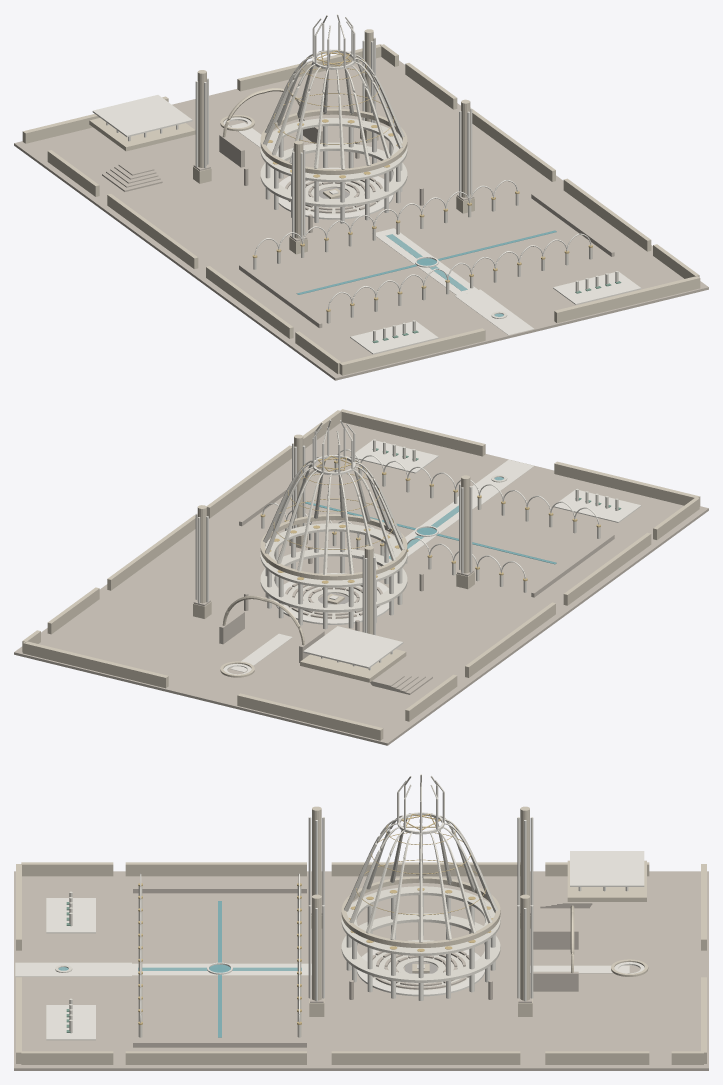
Rendered from temple_lite.glb.
3 views of the same model, one above another, from view 1: azimuth 30°, elevation 25°; view 2: azimuth 150°, elevation 25°; view 3: azimuth 270°, elevation 25° (orthographic). The views are drawn at different scales.
Visible parts, largest first — view 1: 00_foundations_batch_aged, 00_foundations_batch_ashlar, 02_communion_crown_batch_marble, 01_courts_water_batch_pale, 02_communion_crown_batch_pale, 02_communion_crown_batch_ashlar, 00_foundations_batch_pale, 01_courts_water_batch_aged, 01_courts_water_batch_ashlar, 01_courts_water_batch_marble, 01_courts_water_batch_water, 02_communion_crown_batch_aged (+1 smaller); view 2: 00_foundations_batch_aged, 00_foundations_batch_ashlar, 02_communion_crown_batch_marble, 01_courts_water_batch_pale, 02_communion_crown_batch_pale, 02_communion_crown_batch_ashlar, 00_foundations_batch_pale, 01_courts_water_batch_ashlar, 01_courts_water_batch_aged, 01_courts_water_batch_marble, 02_communion_crown_batch_aged, 01_courts_water_batch_water (+1 smaller); view 3: 00_foundations_batch_aged, 00_foundations_batch_ashlar, 02_communion_crown_batch_marble, 02_communion_crown_batch_pale, 01_courts_water_batch_pale, 02_communion_crown_batch_ashlar, 00_foundations_batch_pale, 01_courts_water_batch_aged, 01_courts_water_batch_ashlar, 01_courts_water_batch_marble, 01_courts_water_batch_water, 02_communion_crown_batch_aged (+1 smaller).
Boxes of the visible parts, bbox=[...] form: 00_foundations_batch_aged: bbox=[14, 57, 708, 380]; 00_foundations_batch_ashlar: bbox=[22, 44, 700, 375]; 02_communion_crown_batch_marble: bbox=[260, 14, 407, 214]; 01_courts_water_batch_pale: bbox=[92, 95, 641, 354]; 02_communion_crown_batch_pale: bbox=[195, 22, 472, 238]; 02_communion_crown_batch_ashlar: bbox=[197, 29, 470, 238]; 00_foundations_batch_pale: bbox=[231, 122, 533, 335]; 01_courts_water_batch_aged: bbox=[219, 117, 614, 328]; 01_courts_water_batch_ashlar: bbox=[89, 88, 304, 151]; 01_courts_water_batch_marble: bbox=[253, 194, 618, 341]; 01_courts_water_batch_water: bbox=[296, 230, 556, 316]; 02_communion_crown_batch_aged: bbox=[244, 140, 423, 232]; 00_foundations_batch_aged: bbox=[14, 422, 708, 745]; 00_foundations_batch_ashlar: bbox=[22, 409, 700, 740]; 02_communion_crown_batch_marble: bbox=[260, 419, 407, 619]; 01_courts_water_batch_pale: bbox=[223, 440, 641, 674]; 02_communion_crown_batch_pale: bbox=[195, 427, 472, 635]; 02_communion_crown_batch_ashlar: bbox=[197, 434, 470, 634]; 00_foundations_batch_pale: bbox=[231, 459, 534, 672]; 01_courts_water_batch_ashlar: bbox=[220, 595, 406, 682]; 01_courts_water_batch_aged: bbox=[219, 462, 614, 662]; 01_courts_water_batch_marble: bbox=[261, 439, 618, 592]; 02_communion_crown_batch_aged: bbox=[244, 545, 423, 631]; 01_courts_water_batch_water: bbox=[305, 477, 556, 564]; 00_foundations_batch_aged: bbox=[14, 871, 708, 1070]; 00_foundations_batch_ashlar: bbox=[16, 862, 706, 1064]; 02_communion_crown_batch_marble: bbox=[341, 774, 500, 990]; 02_communion_crown_batch_pale: bbox=[308, 782, 533, 1001]; 01_courts_water_batch_pale: bbox=[46, 851, 644, 1040]; 02_communion_crown_batch_ashlar: bbox=[312, 806, 529, 1000]; 00_foundations_batch_pale: bbox=[15, 962, 629, 976]; 01_courts_water_batch_aged: bbox=[133, 887, 578, 1047]; 01_courts_water_batch_ashlar: bbox=[567, 860, 648, 976]; 01_courts_water_batch_marble: bbox=[55, 886, 301, 1037]; 01_courts_water_batch_water: bbox=[58, 901, 301, 1037]; 02_communion_crown_batch_aged: bbox=[349, 951, 492, 999].
Bounding box in the file's own units: 188 × 86.56 × 280.
